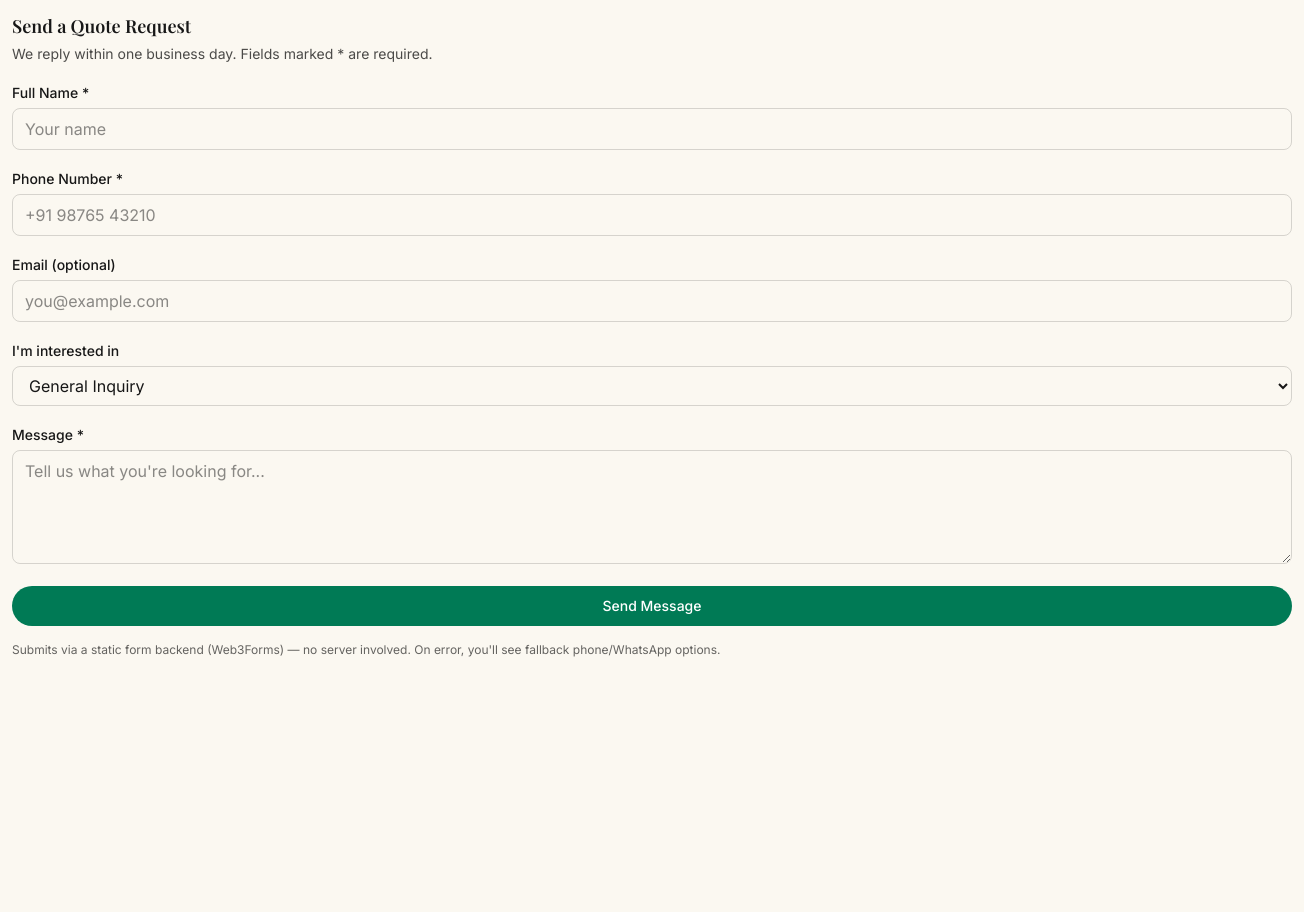
Test: ContactForm › shows validation errors and does not submit when required fields are missing
Click the button "Send Message".
click(652, 606)  # box [12, 586, 1292, 626]
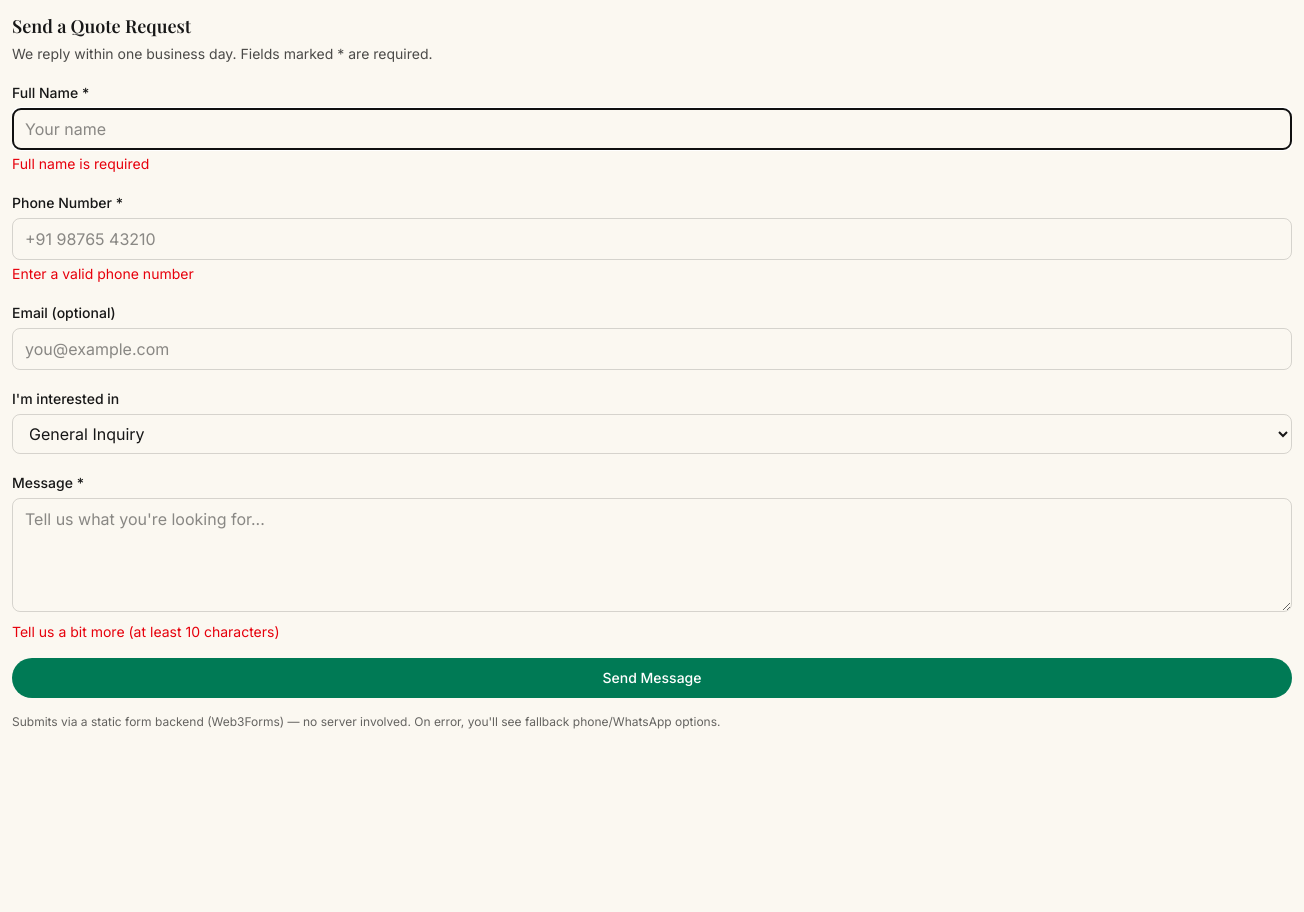
Expected: the text "Full name is required" is shown, [12, 155, 149, 172]
